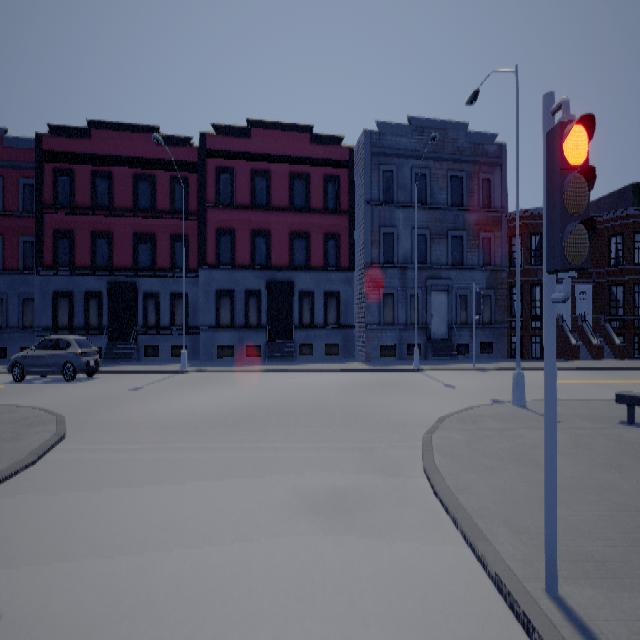red_light: (545, 95, 596, 302)
vehicle: (6, 334, 99, 381)
